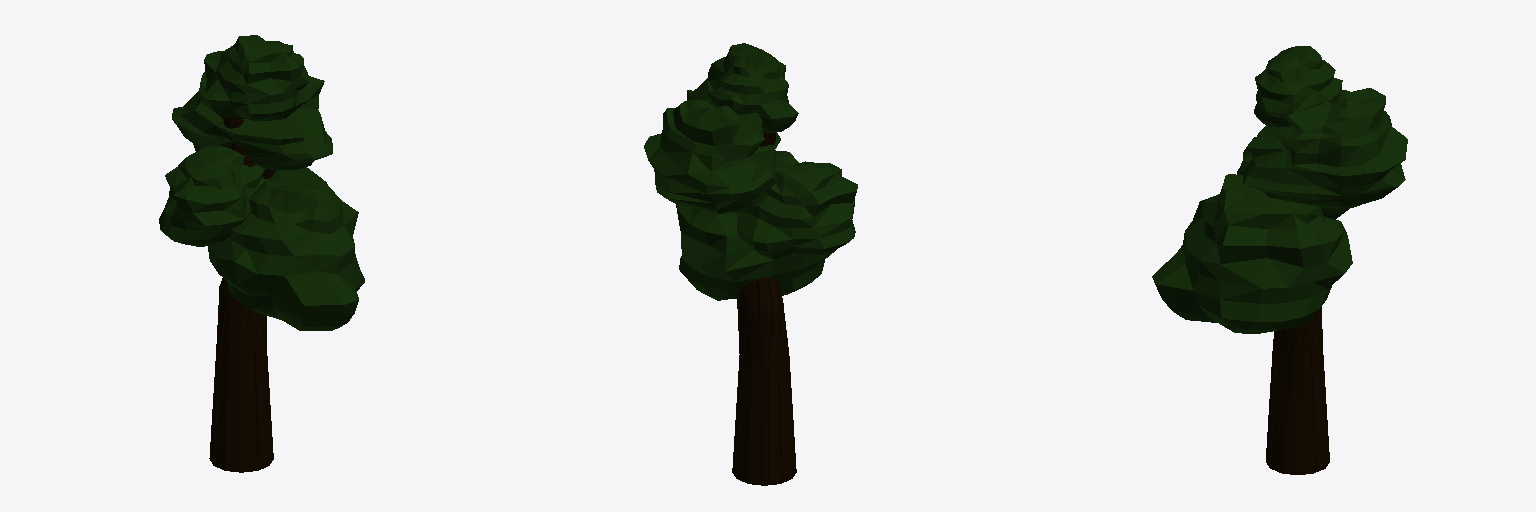
File: TallTree.obj
3 views of the same model, side by side, from view 1: azimuth 30°, elevation 25°; view 2: azimuth 150°, elevation 25°; view 3: azimuth 270°, elevation 25° (orthographic).
Visible parts, largest first — view 1: polySurface34; view 2: polySurface34; view 3: polySurface34.
Boxes of the visible parts, box(x1,y1,x2,y2) form: polySurface34: box(159, 35, 364, 472); polySurface34: box(644, 43, 857, 485); polySurface34: box(1152, 46, 1407, 474).
Size of the model in its own units: 6.31 by 14.29 by 7.95.